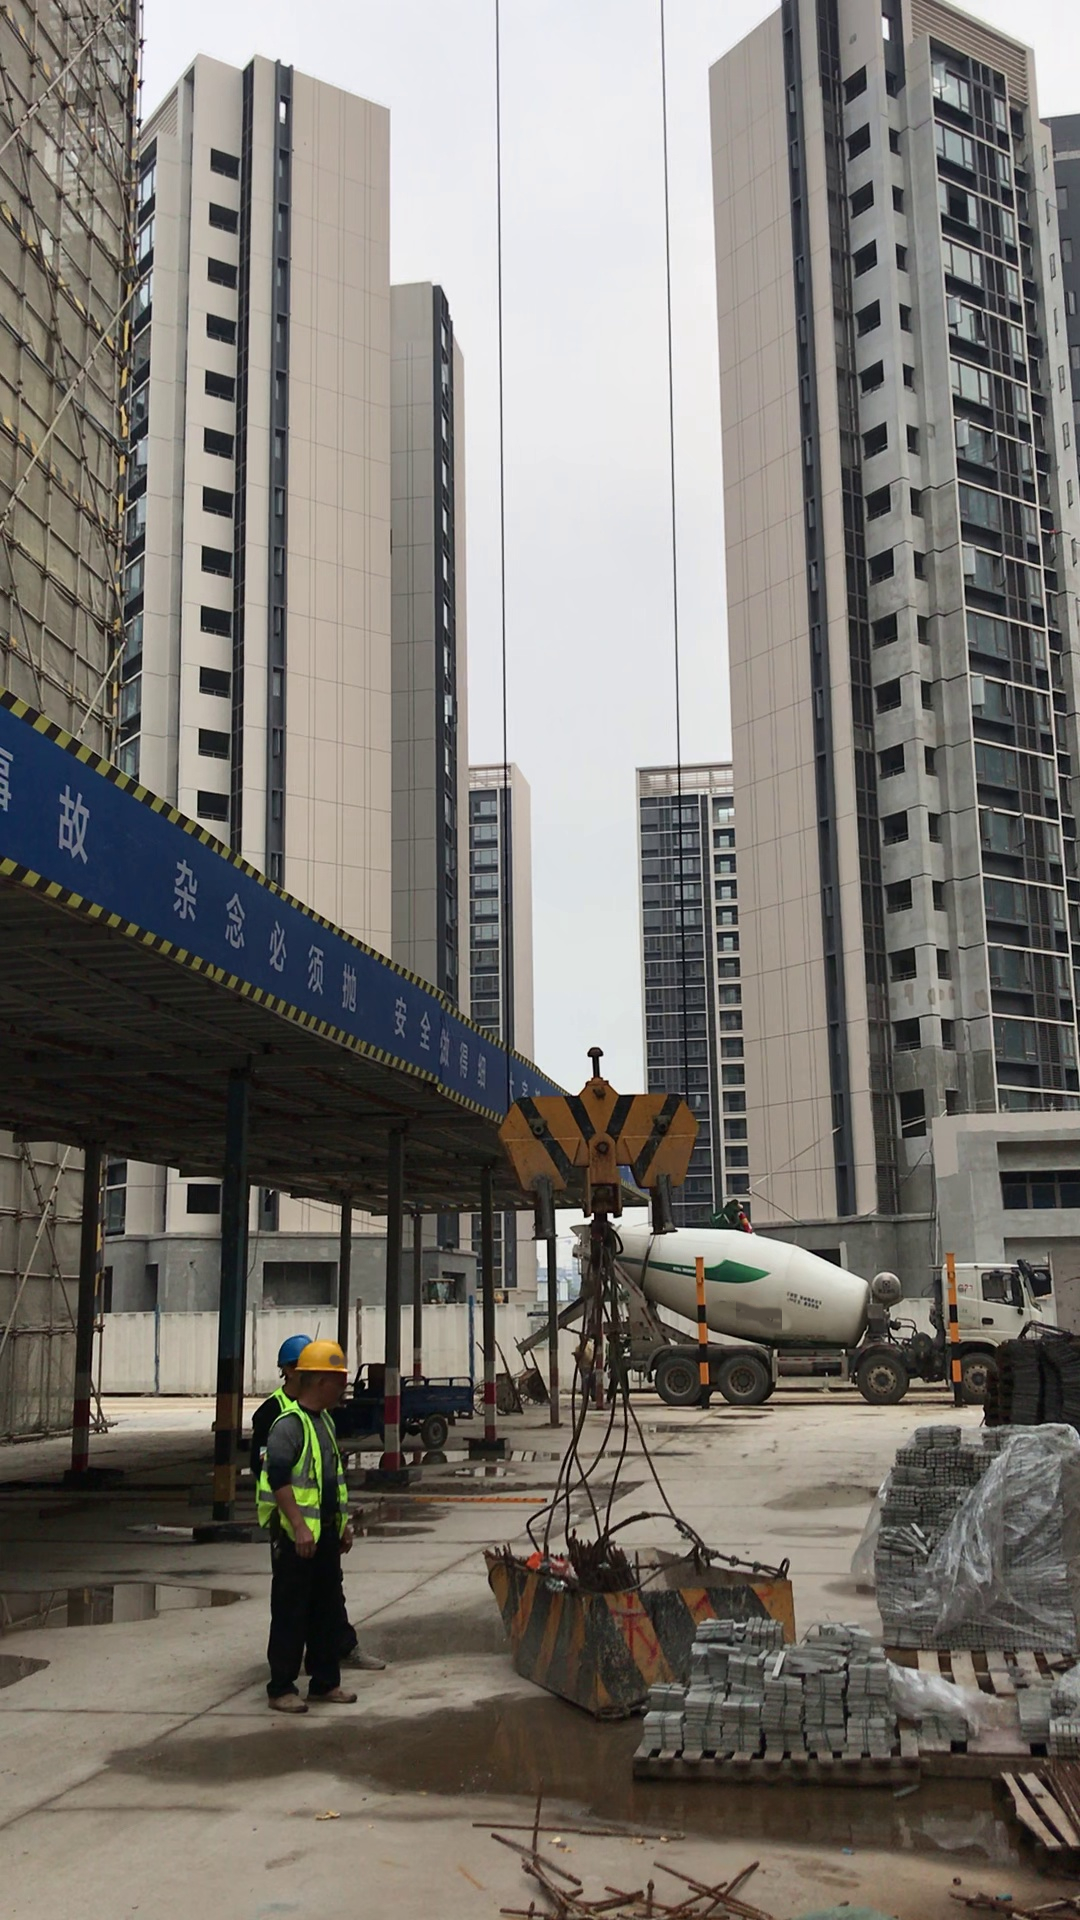helmet: (296, 1341, 356, 1380), (274, 1323, 313, 1370)
hook: (505, 1038, 705, 1233)
person: (264, 1344, 364, 1719), (236, 1327, 316, 1458)
slogan: (38, 768, 535, 1109)
vest: (273, 1408, 352, 1548)
